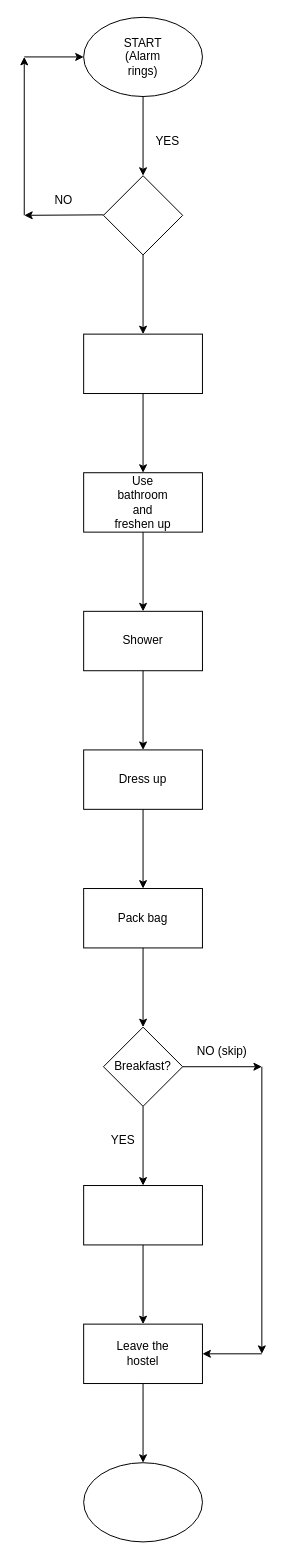
The diagram is 287 pixels wide and 1559 high, and some of its shapes have lost their labels. The centre of each missing label's shape, as x and y in pixels:
Eat breakfast: point 142,1215
STOP: point 142,1502
Wake up and turn off alarm: point 142,363
Wake up?: point 142,215
